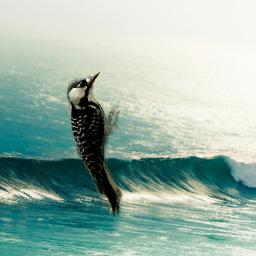Woodpecker: (60, 67, 133, 228)
